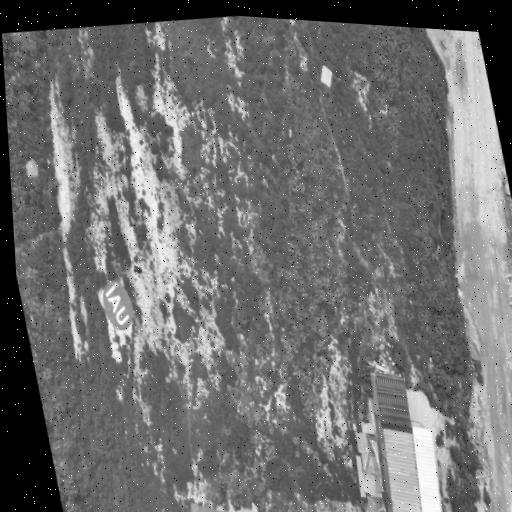person: (134, 265, 142, 274)
uai: (103, 280, 133, 330)
